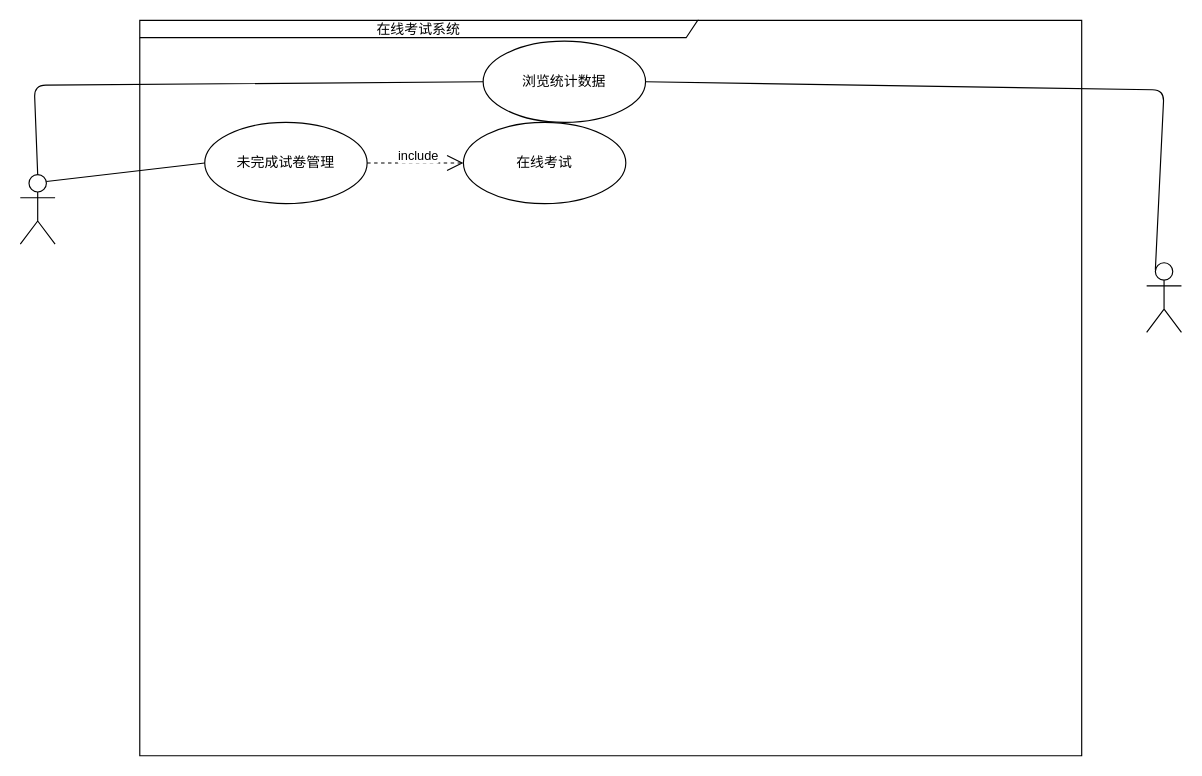
Some shapes in this 1202 by 776 pixel diagram are drawn without their labels. The centre of each missing label's shape, as x and y in pixels:
学生: [37,208]
教师: [1163,297]
